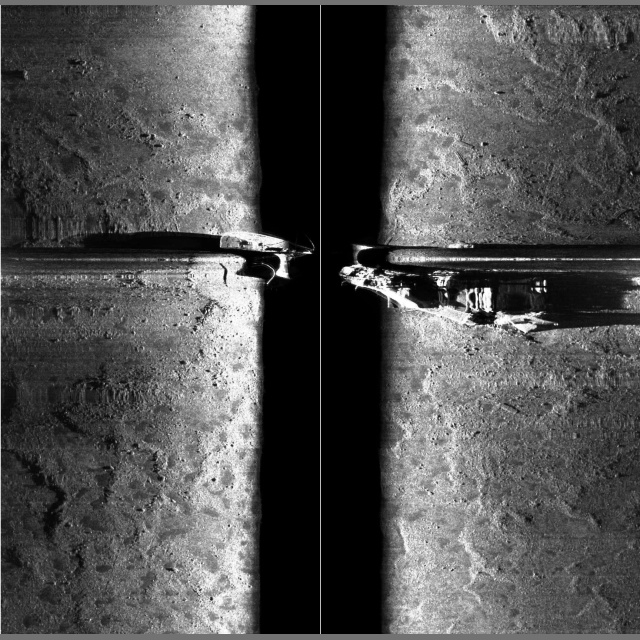Shipwreck: (219, 139, 627, 414)
